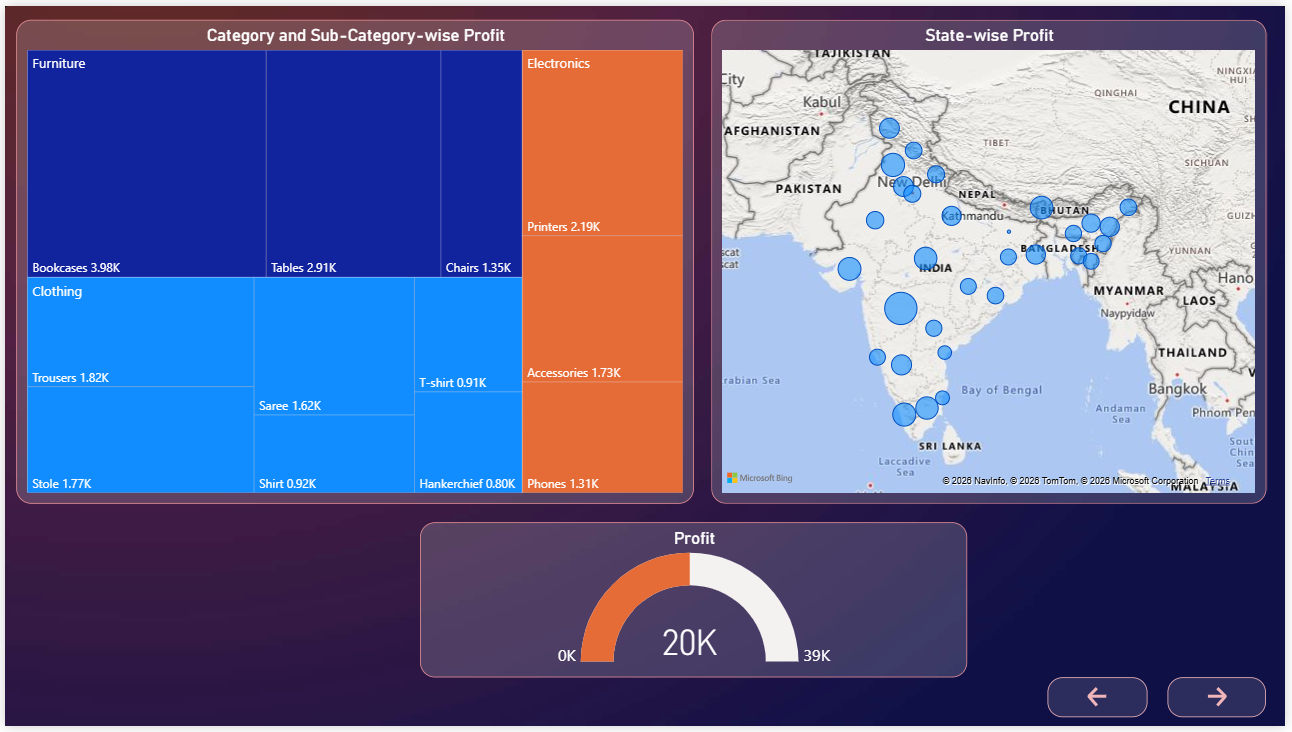

This screenshot's page, from the dashboard's own definition file:
{"tool":"powerbi","page":{"name":"Dashboard 6","canvas":[1280,720],"ordinal":5},"visuals":[{"type":"treemap","title":"Category and Sub-Category-wise Profit","fields":{"Group":["Details.Category"],"Values":["Sum(Details.Profit)"],"Details":["Details.Sub-Category"]},"box":[11.1,13.4,677.9,484.2],"z":0},{"type":"map","title":"State-wise Profit","fields":{"Category":["Orders.State"],"Size":["Sum(Details.Profit)"]},"box":[706.2,13.8,555,483.8],"z":1000},{"type":"gauge","title":"Profit","fields":{"Y":["Sum(Details.Profit)"]},"box":[415,516.2,547.5,155],"z":2000},{"type":"actionButton","box":[1162.5,671.2,98.8,40],"z":3000},{"type":"actionButton","box":[1042.5,671.2,100,40],"z":4000}]}

Visuals, with their boxes in screenshot pixels (x1, y1, x2, y2), scaled from the page's 1280x720 canvas onto the 1292x732 screenshot:
"Category and Sub-Category-wise Profit" treemap: {"x1": 11, "y1": 14, "x2": 695, "y2": 506}
"State-wise Profit" map: {"x1": 713, "y1": 14, "x2": 1273, "y2": 506}
"Profit" gauge: {"x1": 419, "y1": 525, "x2": 972, "y2": 682}
actionButton: {"x1": 1173, "y1": 682, "x2": 1273, "y2": 723}
actionButton: {"x1": 1052, "y1": 682, "x2": 1153, "y2": 723}
